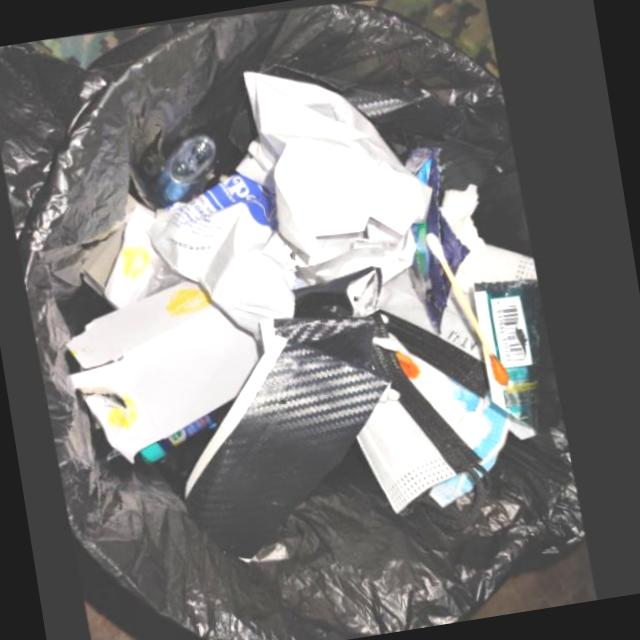carton: (68, 280, 261, 462), (107, 206, 160, 307)
giay: (248, 68, 436, 287)
khau_trang: (358, 342, 491, 526), (440, 239, 539, 358)
tui_ni_long: (151, 171, 300, 335)
